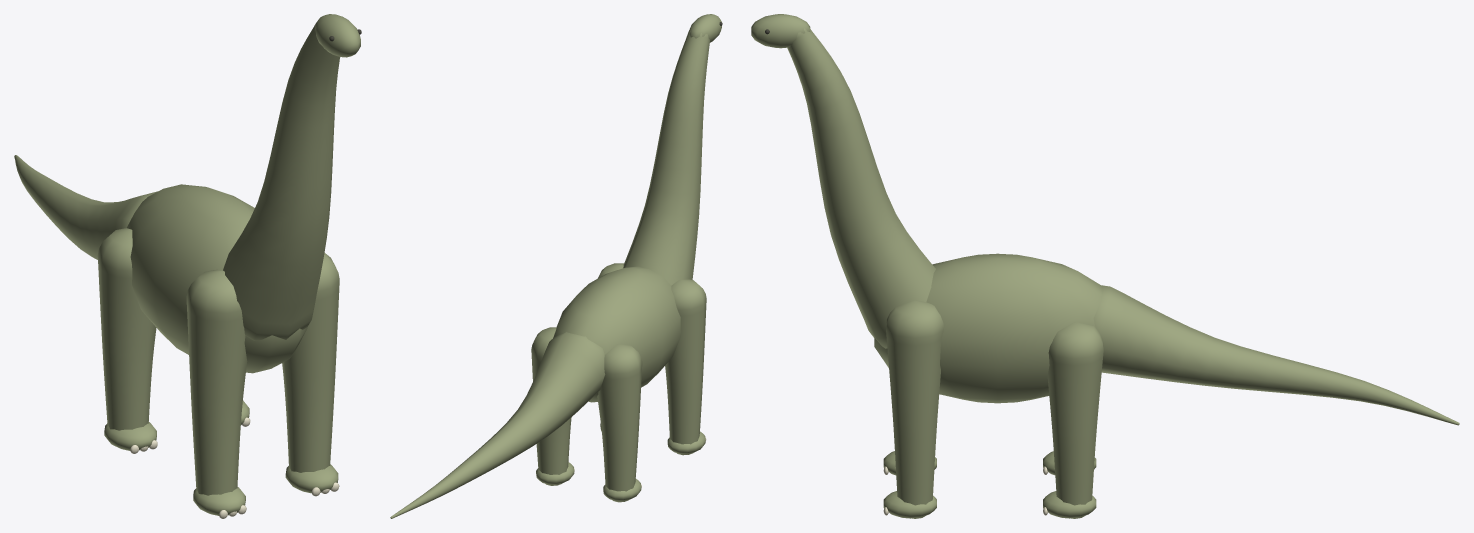
The model's file is brachiosaurus.glb.
3 renders of one model, left to right at view 1: azimuth 30°, elevation 25°; view 2: azimuth 150°, elevation 25°; view 3: azimuth 270°, elevation 25°, orthographic. The views are drawn at different scales.
Parts seen in each view (by area): view 1: brachiosaurus; view 2: brachiosaurus; view 3: brachiosaurus.
Part boxes in pixels (x1,y1,x2,y2): brachiosaurus: (14, 14, 361, 518); brachiosaurus: (390, 14, 722, 518); brachiosaurus: (751, 14, 1459, 518).
Size of the model in its own units: 4.65 by 16.52 by 22.
